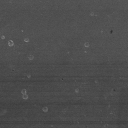corrosion: (21, 89, 29, 100), (41, 105, 49, 114), (7, 39, 15, 47), (23, 37, 30, 44), (83, 41, 90, 48)
